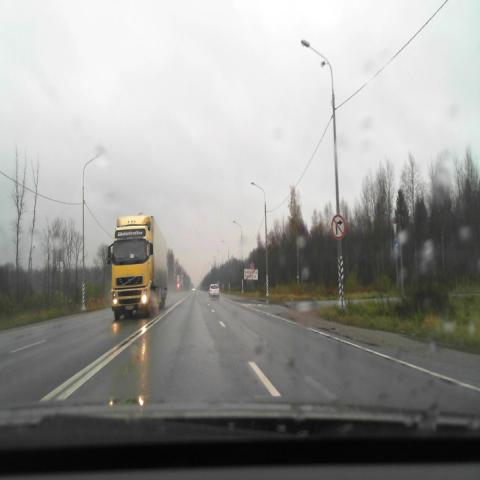3_18: (331, 214, 346, 240)
